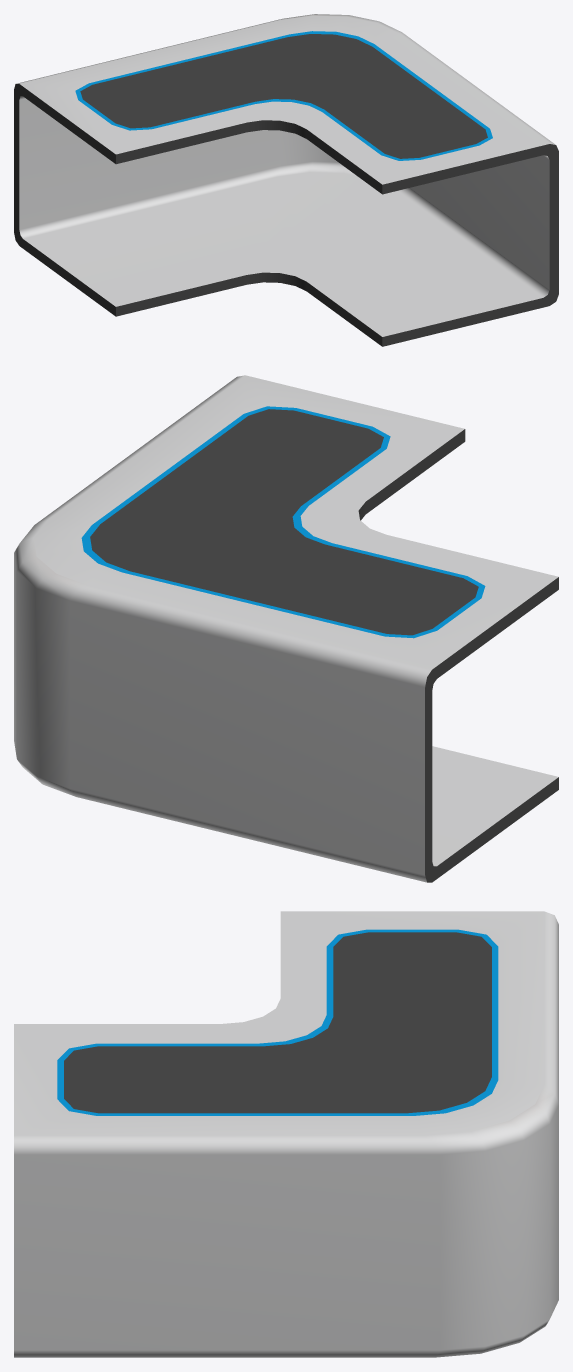
File: Table_001.fbx
The picture shows the model from 3 angles, top to bottom: view 1: azimuth 30°, elevation 25°; view 2: azimuth 150°, elevation 25°; view 3: azimuth 270°, elevation 25°; orthographic projection. The views are drawn at different scales.
Visible parts, largest first — view 1: Table_001; view 2: Table_001; view 3: Table_001.
Boxes of the visible parts, x1=… form: Table_001: x1=14, y1=14, x2=558, y2=346; Table_001: x1=14, y1=375, x2=558, y2=882; Table_001: x1=14, y1=911, x2=558, y2=1357.
Size of the model in its own units: 194 by 194 by 87.13.
